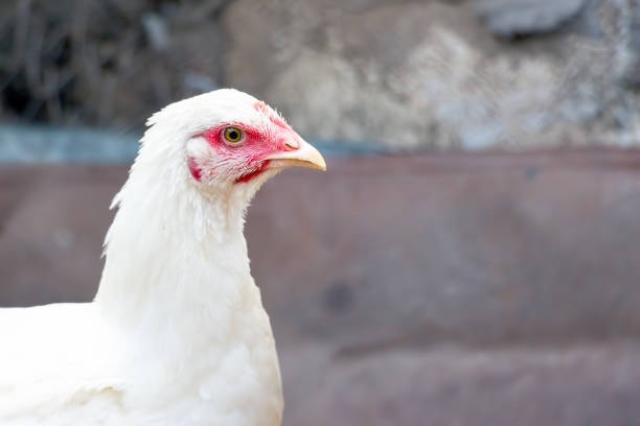Chicken: (0, 85, 326, 426)
